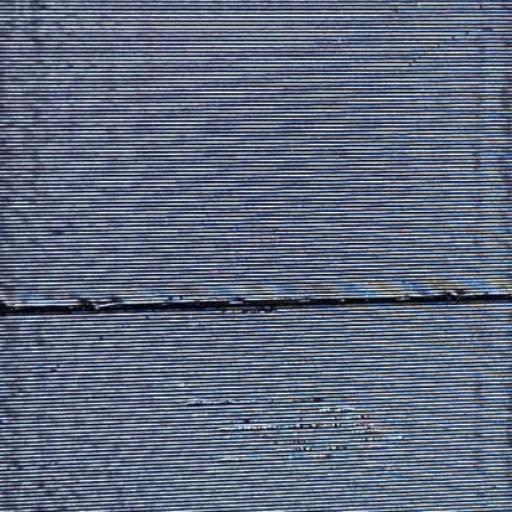cracks: (1, 281, 512, 333)
